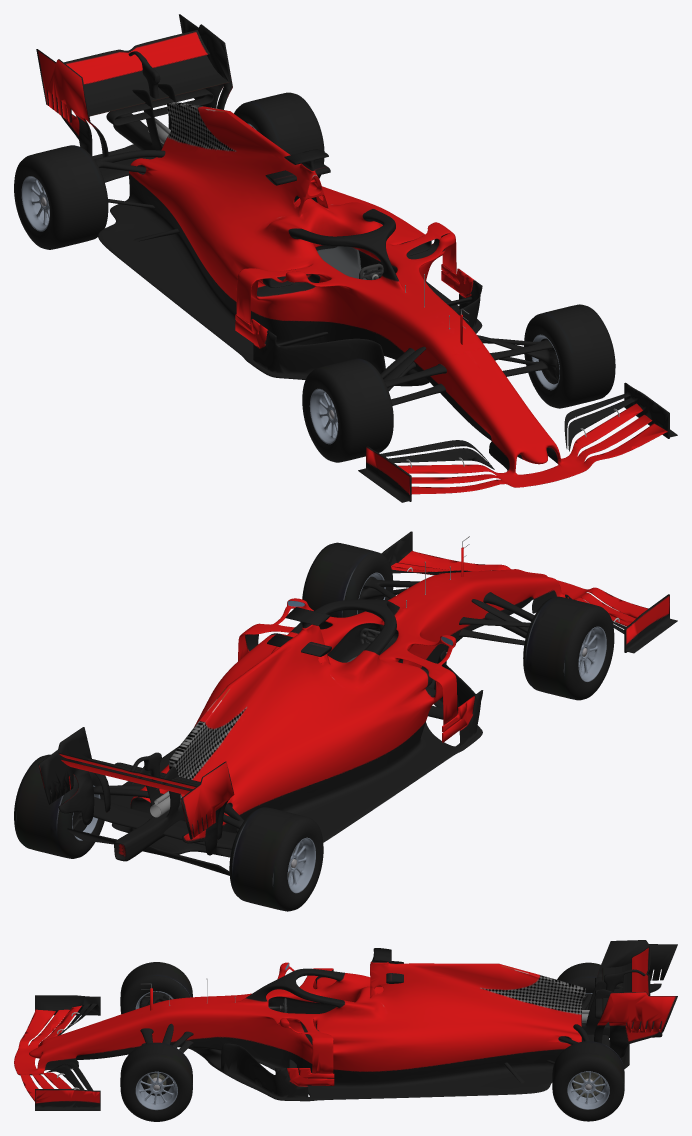
Rendered from car.glb.
3 renders of one model, top to bottom at view 1: azimuth 30°, elevation 25°; view 2: azimuth 150°, elevation 25°; view 3: azimuth 270°, elevation 25°, orthographic. The views are drawn at different scales.
Parts seen in each view (by area): view 1: Main Body (×4), Tire RL.001, object 11, Tire FL, Tire RL, Rear Transmission, object 12, Rim RL.001, Seat; view 2: Main Body (×4), Tire RL.001, object 11, Tire RL, Tire FL, Rear Transmission, object 12, Rim RL.001; view 3: Main Body (×4), Tire RL, Tire FL, object 11, Rim FL, Rim RL, Rear Transmission, Tire RL.001.
Part boxes in pixels (x1,y1,x2,y2): Main Body (×4): (36, 14, 677, 502); Tire RL.001: (14, 145, 108, 249); object 11: (302, 358, 393, 462); Tire FL: (524, 304, 615, 408); Tire RL: (234, 92, 324, 178); Rear Transmission: (40, 126, 253, 213); object 12: (309, 388, 338, 444); Rim RL.001: (21, 176, 49, 231); Seat: (317, 246, 366, 279); Main Body (×4): (38, 531, 677, 875); Tire RL.001: (229, 807, 323, 911); object 11: (523, 596, 614, 700); Tire RL: (14, 754, 104, 858); Tire FL: (302, 542, 393, 629); Rear Transmission: (72, 785, 296, 876); object 12: (578, 626, 606, 681); Rim RL.001: (287, 837, 315, 893); Main Body (×4): (14, 940, 677, 1110); Tire RL: (552, 1041, 624, 1121); Tire FL: (120, 1042, 192, 1121); object 11: (120, 962, 192, 1014); Rim FL: (135, 1071, 177, 1110); Rim RL: (567, 1071, 609, 1109); Rear Transmission: (546, 993, 609, 1097); Tire RL.001: (557, 962, 600, 993).
Size of the model in its own units: 2.53 by 1.42 by 7.08.
2 materials, 2 textured.
